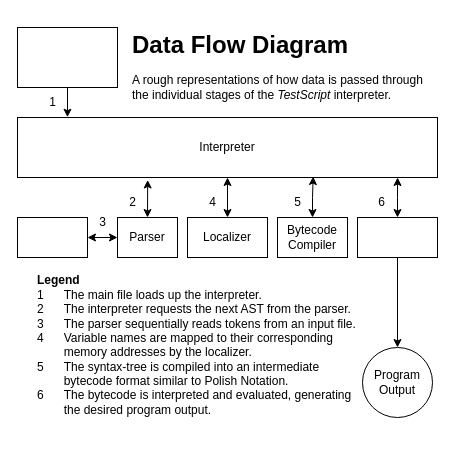
Image size: 455x454. Some labels were removed from this diagram. The box of each missing label's shape, as (x1, y1, x2, y2) in pixels:
Main File: (16, 26, 118, 88)
Runtime: (356, 216, 438, 258)
Tokenizer: (16, 216, 88, 258)
